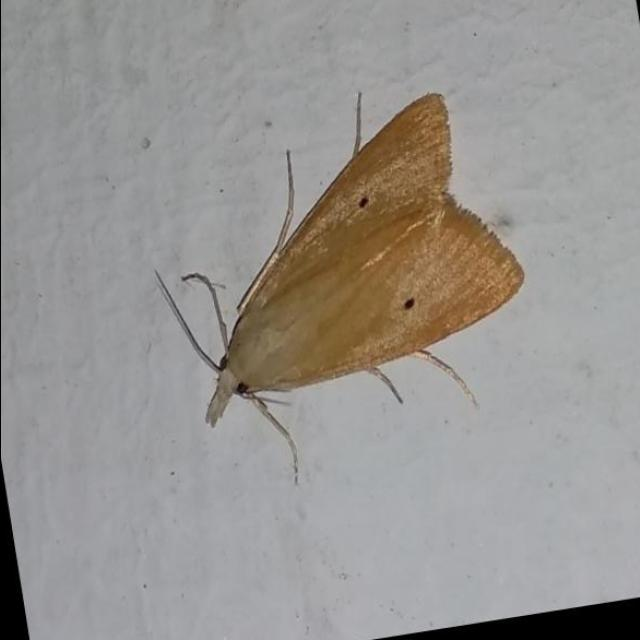stem borer: (154, 94, 522, 482)
